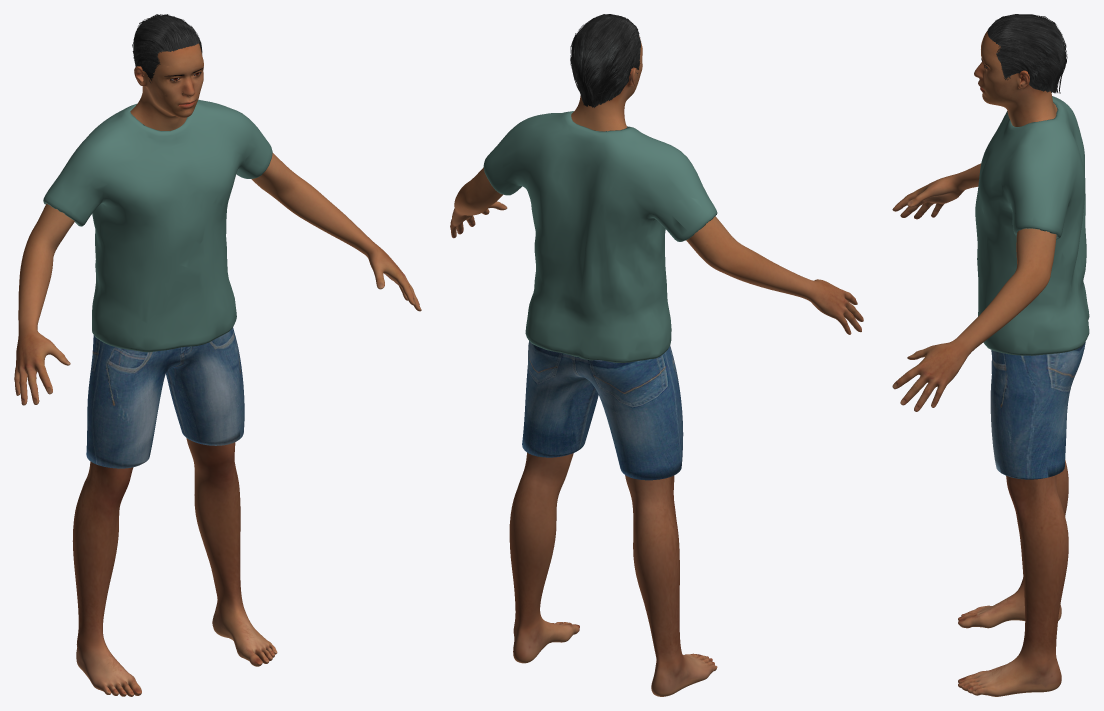
File: male-tan-shorts-tshirt.glb
3 views of the same model, side by side, from view 1: azimuth 30°, elevation 25°; view 2: azimuth 150°, elevation 25°; view 3: azimuth 270°, elevation 25° (orthographic).
Visible parts, largest first — view 1: TShirt, Body, Shorts, Hair; view 2: TShirt, Body, Shorts, Hair; view 3: Body, TShirt, Shorts, Hair.
Boxes of the visible parts, left/top/right/bottom form: TShirt: left=43, top=99, right=272, bottom=352; Body: left=14, top=43, right=421, bottom=696; Shorts: left=86, top=328, right=244, bottom=468; Hair: left=132, top=14, right=202, bottom=82; TShirt: left=483, top=111, right=717, bottom=362; Body: left=450, top=36, right=863, bottom=696; Shorts: left=522, top=341, right=683, bottom=480; Hair: left=570, top=14, right=640, bottom=107; Body: left=892, top=31, right=1068, bottom=696; TShirt: left=975, top=96, right=1089, bottom=355; Shorts: left=990, top=342, right=1085, bottom=479; Hair: left=987, top=14, right=1067, bottom=93.
Size of the model in its own units: 1.17 by 1.79 by 0.5008.
Materials: 8 (7 with a texture image).
